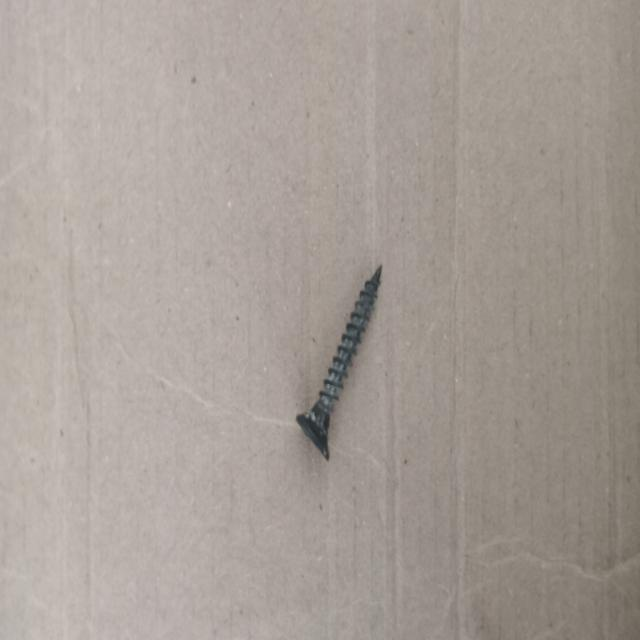screw: (296, 265, 381, 461)
